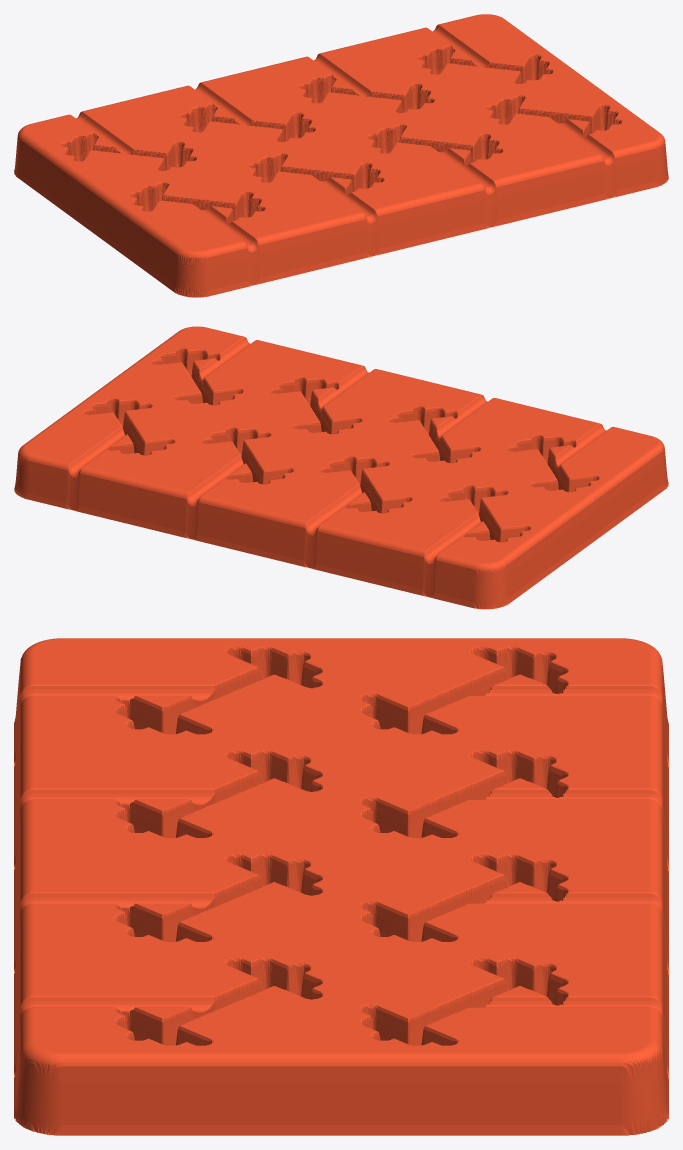
File: mold.glb
3 views of the same model, one above another, from view 1: azimuth 30°, elevation 25°; view 2: azimuth 150°, elevation 25°; view 3: azimuth 270°, elevation 25° (orthographic). The views are drawn at different scales.
Parts seen in each view (by area): view 1: geometry_0; view 2: geometry_0; view 3: geometry_0.
Part boxes in pixels (x1=…): geometry_0: x1=14, y1=14, x2=668, y2=297; geometry_0: x1=14, y1=326, x2=668, y2=609; geometry_0: x1=14, y1=638, x2=668, y2=1135.
Bounding box in the file's own units: 0.1907 × 0.0155 × 0.1229.
